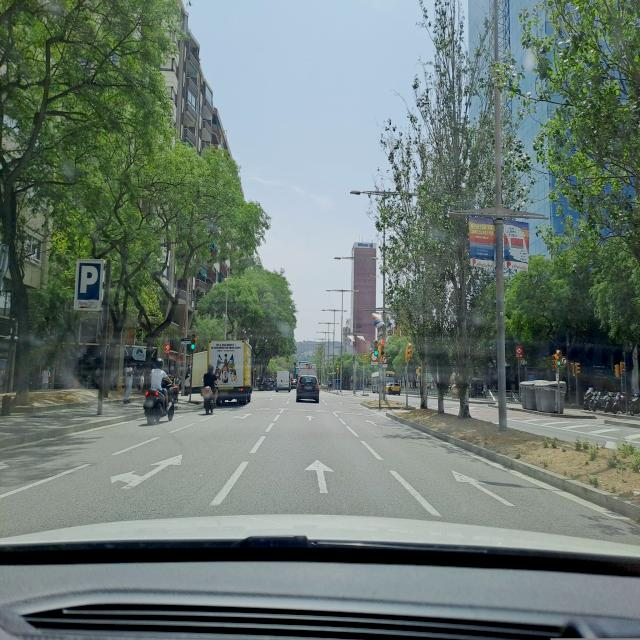bike: (142, 385, 170, 423), (202, 386, 217, 414), (584, 385, 596, 412), (612, 392, 626, 414), (593, 392, 608, 412)
car: (295, 374, 320, 404), (386, 381, 402, 395)
